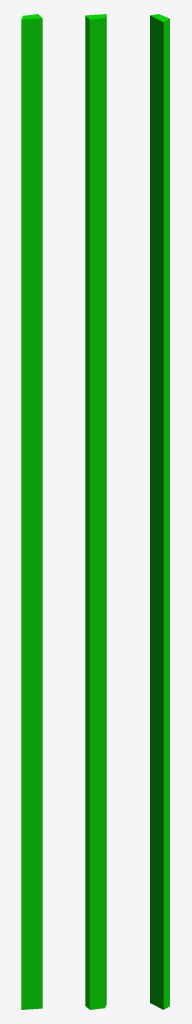
3 renders of one model, left to right at view 1: azimuth 30°, elevation 25°; view 2: azimuth 210°, elevation 25°; view 3: azimuth 330°, elevation 25°, orthographic.
Parts seen in each view (by area): view 1: Plane.024; view 2: Plane.024; view 3: Plane.024.
Part boxes in pixels (bbox=[...]): Plane.024: bbox=[21, 14, 42, 1009]; Plane.024: bbox=[85, 14, 106, 1009]; Plane.024: bbox=[150, 14, 169, 1009].
Size of the model in its own units: 250 by 12751 by 173.
